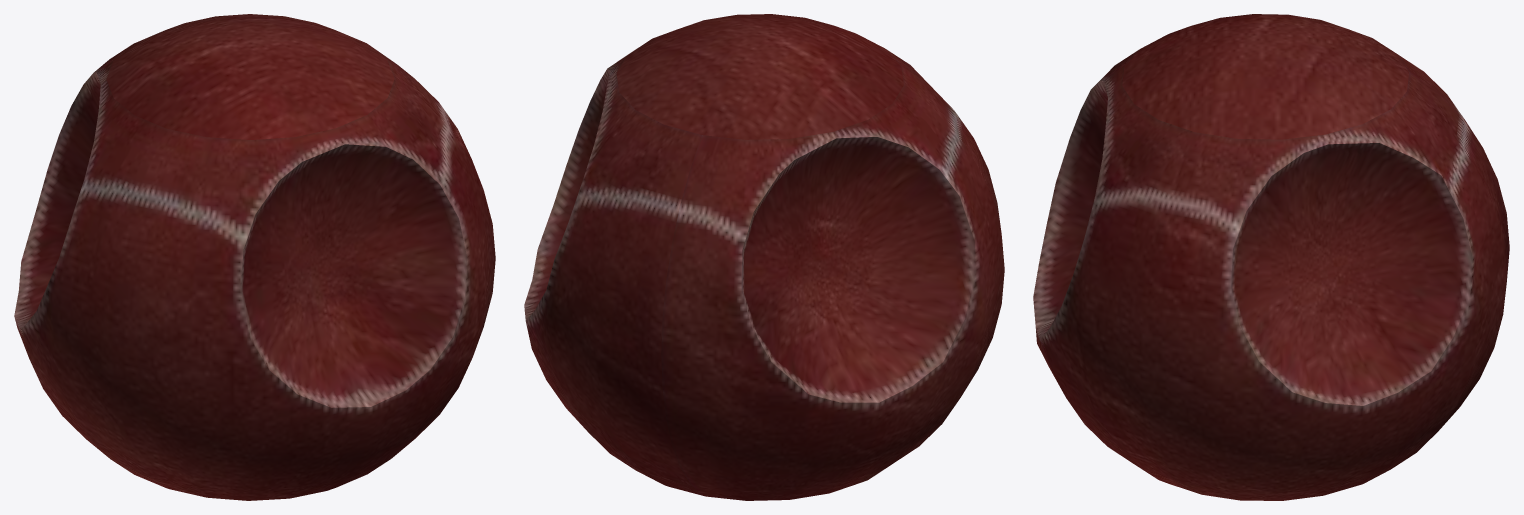
Rendered from q_quaffle_webp.glb.
3 views of the same model, side by side, from view 1: azimuth 30°, elevation 25°; view 2: azimuth 150°, elevation 25°; view 3: azimuth 270°, elevation 25° (orthographic).
Visible parts, largest first — view 1: Quaffle_01; view 2: Quaffle_01; view 3: Quaffle_01.
Part boxes in pixels (bbox=[...]): Quaffle_01: bbox=[14, 14, 495, 500]; Quaffle_01: bbox=[524, 14, 1004, 500]; Quaffle_01: bbox=[1033, 14, 1509, 500].
Bounding box in the file's own units: 0.3 × 0.2789 × 0.2938.
Materials: 1 (1 with a texture image).
